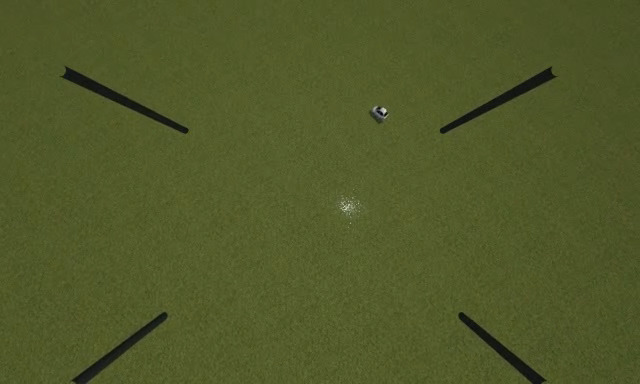Car: (372, 104, 390, 123)
